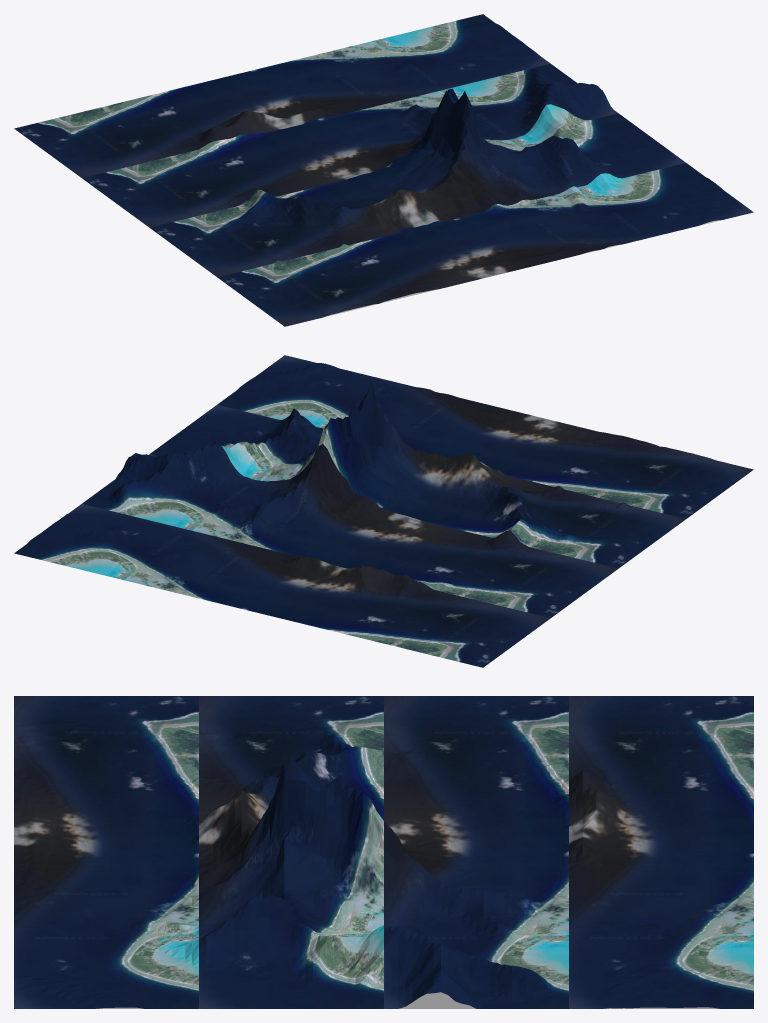
File: problem.gltf
The picture shows the model from 3 angles, top to bottom: view 1: azimuth 30°, elevation 25°; view 2: azimuth 150°, elevation 25°; view 3: azimuth 270°, elevation 25°; orthographic projection. The views are drawn at different scales.
Size of what is drawn, in the model's own units: 0.9381 by 0.178 by 0.9381.
